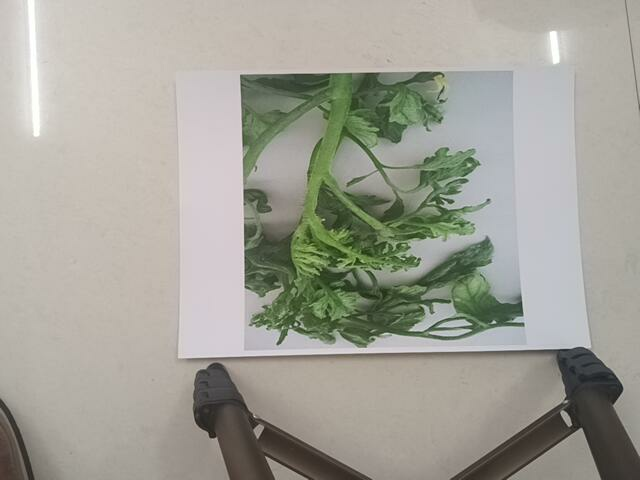Tomamto_Mosaic_virus: (240, 72, 532, 351)
